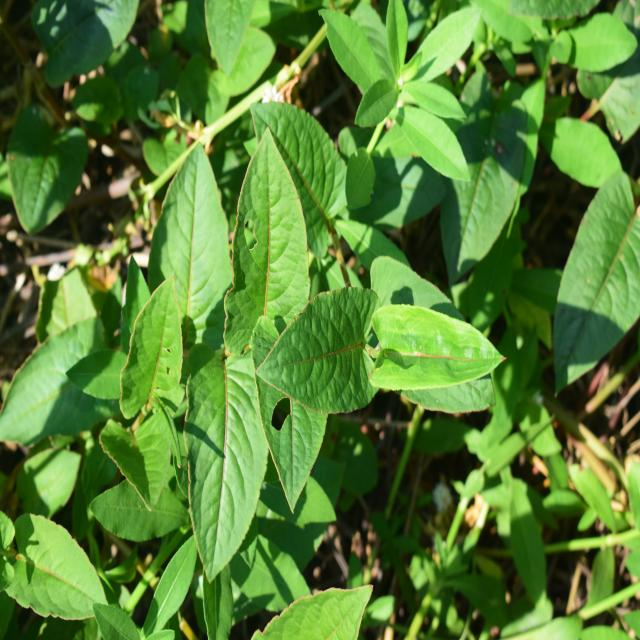Chinese_knotweed: (115, 141, 454, 528)
